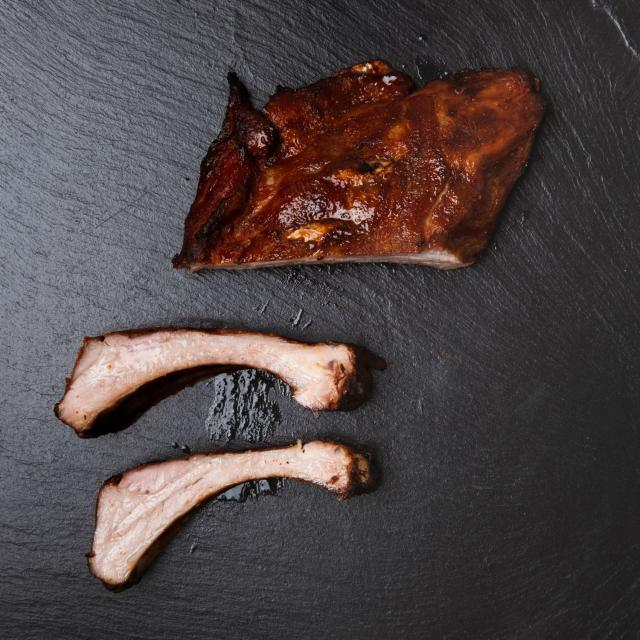carne de cerdo: (170, 56, 556, 281)
